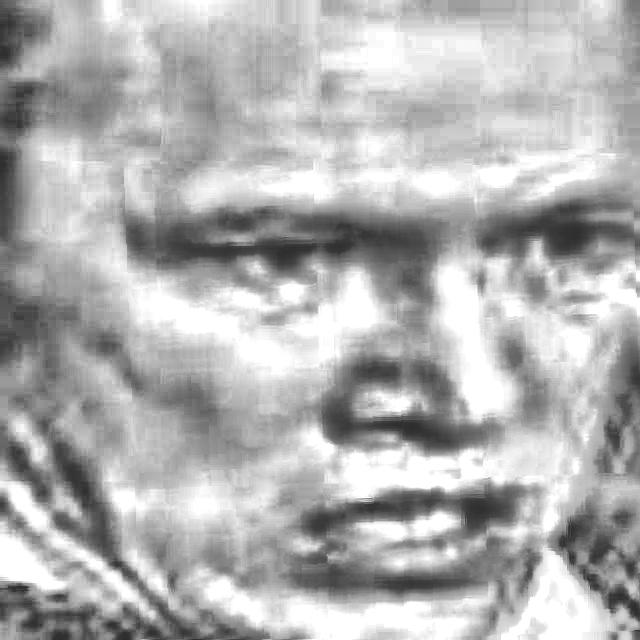angry: (128, 151, 640, 640)
